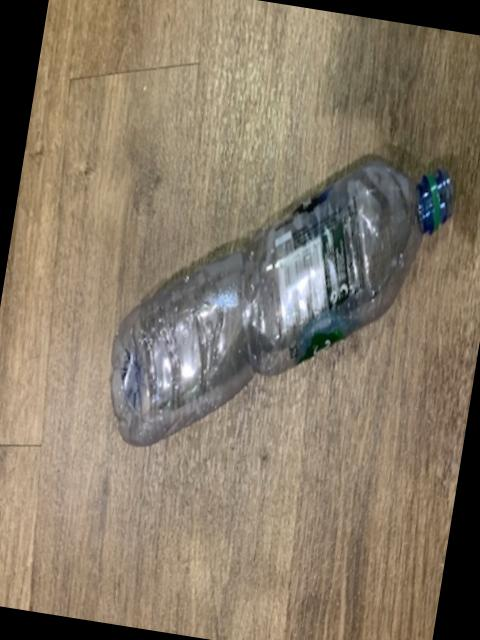plastic: (113, 158, 453, 442)
